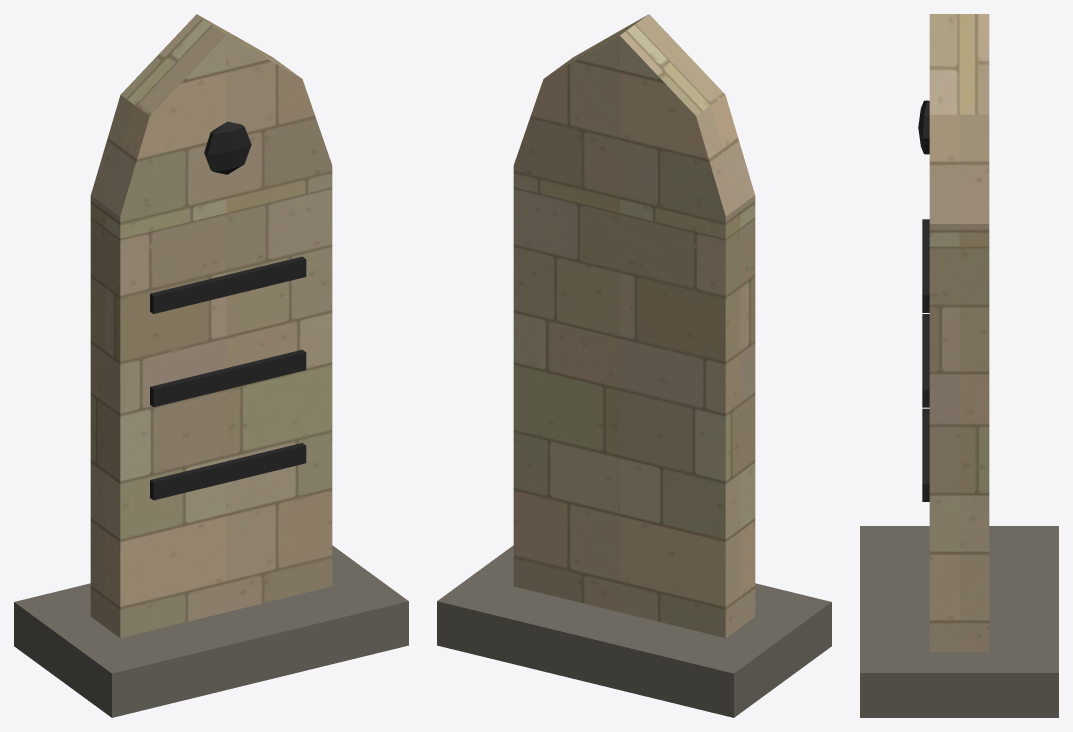
The model's file is gravestone_a.glb.
3 views of the same model, side by side, from view 1: azimuth 30°, elevation 25°; view 2: azimuth 150°, elevation 25°; view 3: azimuth 270°, elevation 25° (orthographic).
Parts seen in each view (by area): view 1: Gravestone_A; view 2: Gravestone_A; view 3: Gravestone_A.
Part boxes in pixels (box(x1,y1,x2,y2)): Gravestone_A: box(14, 14, 408, 717); Gravestone_A: box(437, 14, 831, 717); Gravestone_A: box(860, 14, 1058, 717).
Size of the model in its own units: 0.7001 by 1.4 by 0.4.
Materials: 3 (2 with a texture image).
